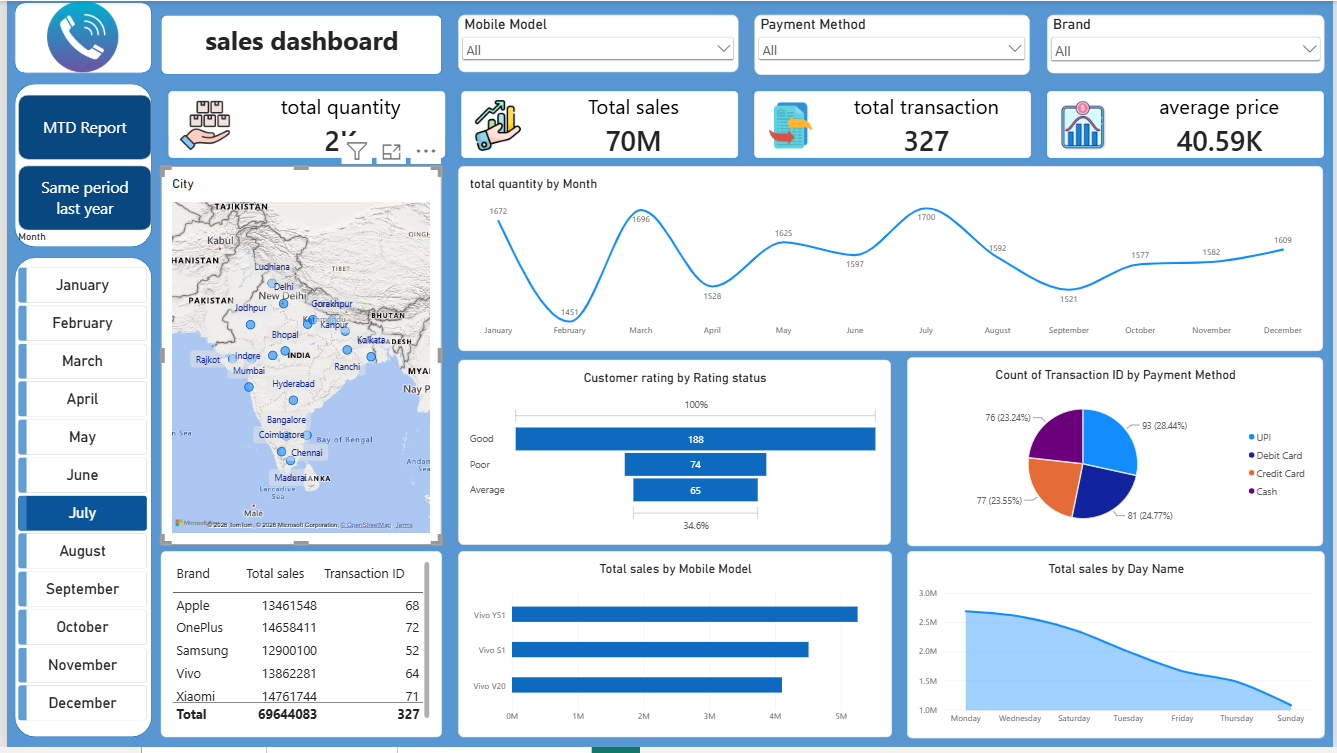

What the dashboard file says about the page in this screenshot:
{"tool":"powerbi","page":{"name":"Dashboard","canvas":[1920,1080],"ordinal":0},"visuals":[{"type":"shape","box":[10.9,1.8,199.1,103.2],"z":0},{"type":"shape","box":[10.9,119.4,199.1,237.1],"z":1000},{"type":"shape","box":[10.9,371,199.1,694.9],"z":2000},{"type":"image","box":[38,0,143,103.2],"z":3000},{"type":"advancedSlicerVisual","fields":{"Values":["custome calender.date.Variation.Date Hierarchy.Month"]},"box":[16.3,333,186.4,732.9],"z":4000},{"type":"cardVisual","fields":{"Data":["sales data.total quantity","sales data.Total sales","sales data.total transaction","sales data.average price"]},"box":[222.6,119.4,1697.5,119.4],"z":5000},{"type":"slicer","fields":{"Values":["sales data.Brand"]},"box":[1505.6,19.9,401.7,85.1],"z":6000},{"type":"slicer","fields":{"Values":["sales data.Payment Method"]},"box":[1082.2,19.9,398.1,86.9],"z":7000},{"type":"slicer","fields":{"Values":["sales data.Mobile Model"]},"box":[653.3,19.9,405.4,83.2],"z":8000},{"type":"shape","box":[222.6,19.9,407.2,86.9],"z":9000},{"type":"textbox","box":[266,30.8,322.1,67],"z":10000},{"type":"map","fields":{"Category":["sales data.City"]},"box":[222.6,238.9,407.2,548.3],"z":11000},{"type":"lineChart","fields":{"Category":["custome calender.date.Variation.Date Hierarchy.Month"],"Y":["sales data.total quantity"]},"box":[653.3,238.9,1252.3,267.8],"z":12000},{"type":"funnel","title":"Customer rating by Rating status","fields":{"Category":["sales data.Rating status"],"Y":["CountNonNull(sales data.Customer Ratings)"]},"box":[653.3,519.4,626.1,267.8],"z":13000},{"type":"pieChart","fields":{"Category":["sales data.Payment Method"],"Y":["CountNonNull(sales data.Transaction ID)"]},"box":[1303,515.8,602.6,273.3],"z":14000},{"type":"clusteredBarChart","fields":{"Category":["sales data.Mobile Model"],"Y":["sales data.Total sales"]},"box":[653.3,796.3,628,269.6],"z":15000},{"type":"areaChart","fields":{"Category":["custome calender.Day Name"],"Y":["sales data.Total sales"]},"box":[1303,796.3,604.4,271.4],"z":16000},{"type":"tableEx","fields":{"Values":["sales data.Brand","sales data.Total sales","CountNonNull(sales data.Transaction ID)"]},"box":[222.6,796.3,407.2,269.6],"z":17000},{"type":"pageNavigator","box":[16.3,135.7,193.6,197.3],"z":17001}]}

Visuals, with their boxes in screenshot pixels (x1, y1, x2, y2), scaled from the page's 1920x1080 canvas onto the 1337x753 screenshot:
shape: <bbox>8, 1, 146, 73</bbox>
shape: <bbox>8, 83, 146, 249</bbox>
shape: <bbox>8, 259, 146, 743</bbox>
image: <bbox>26, 0, 126, 72</bbox>
advancedSlicerVisual - custome calender.date.Variation.Date Hierarchy.Month: <bbox>11, 232, 141, 743</bbox>
cardVisual - sales data.total quantity x sales data.Total sales: <bbox>155, 83, 1336, 166</bbox>
slicer - sales data.Brand: <bbox>1048, 14, 1328, 73</bbox>
slicer - sales data.Payment Method: <bbox>754, 14, 1031, 74</bbox>
slicer - sales data.Mobile Model: <bbox>455, 14, 737, 72</bbox>
shape: <bbox>155, 14, 439, 74</bbox>
textbox: <bbox>185, 21, 410, 68</bbox>
map - sales data.City: <bbox>155, 167, 439, 549</bbox>
lineChart - custome calender.date.Variation.Date Hierarchy.Month x sales data.total quantity: <bbox>455, 167, 1327, 353</bbox>
"Customer rating by Rating status" funnel: <bbox>455, 362, 891, 549</bbox>
pieChart - sales data.Payment Method x CountNonNull(sales data.Transaction ID): <bbox>907, 360, 1327, 550</bbox>
clusteredBarChart - sales data.Mobile Model x sales data.Total sales: <bbox>455, 555, 892, 743</bbox>
areaChart - custome calender.Day Name x sales data.Total sales: <bbox>907, 555, 1328, 744</bbox>
tableEx - sales data.Brand x sales data.Total sales: <bbox>155, 555, 439, 743</bbox>
pageNavigator: <bbox>11, 95, 146, 232</bbox>
